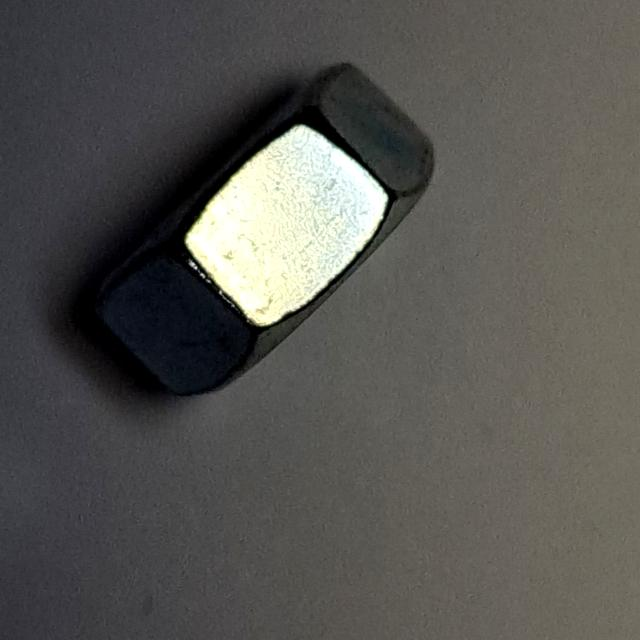Side_Excellent: (62, 45, 457, 415)
